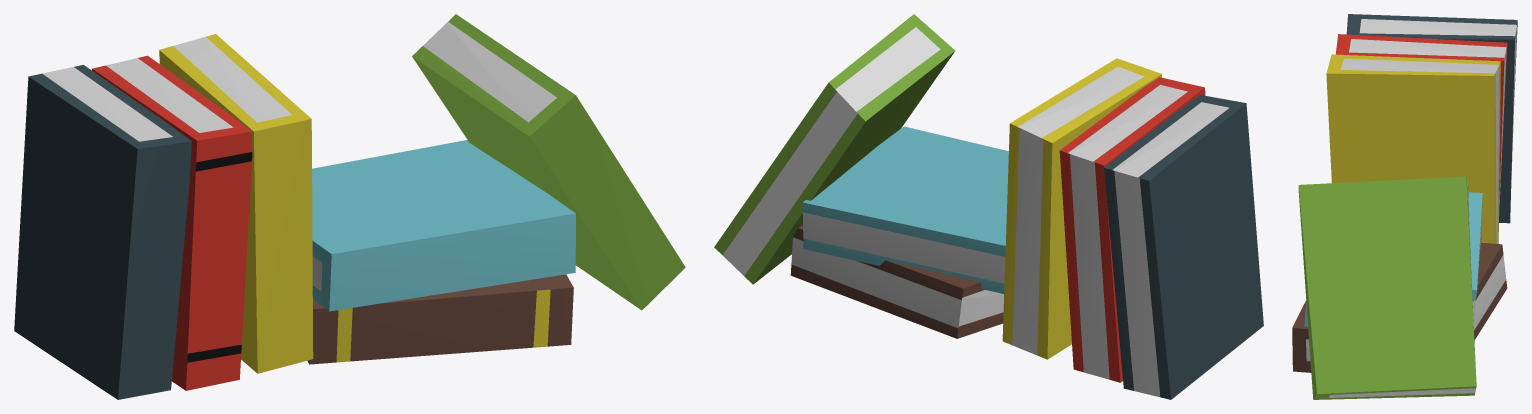
The picture shows the model from 3 angles, left to right: view 1: azimuth 30°, elevation 25°; view 2: azimuth 150°, elevation 25°; view 3: azimuth 270°, elevation 25°; orthographic projection. The views are drawn at different scales.
Parts seen in each view (by area): view 1: node_MeshObject96883712-PolyPaper17; view 2: node_MeshObject96883712-PolyPaper17; view 3: node_MeshObject96883712-PolyPaper17.
Part boxes in pixels (x1,y1,x2,y2): node_MeshObject96883712-PolyPaper17: (14,14,685,399); node_MeshObject96883712-PolyPaper17: (714,14,1263,399); node_MeshObject96883712-PolyPaper17: (1292,14,1517,399).
Size of the model in its own units: 0.1141 by 0.054 by 0.0525.
